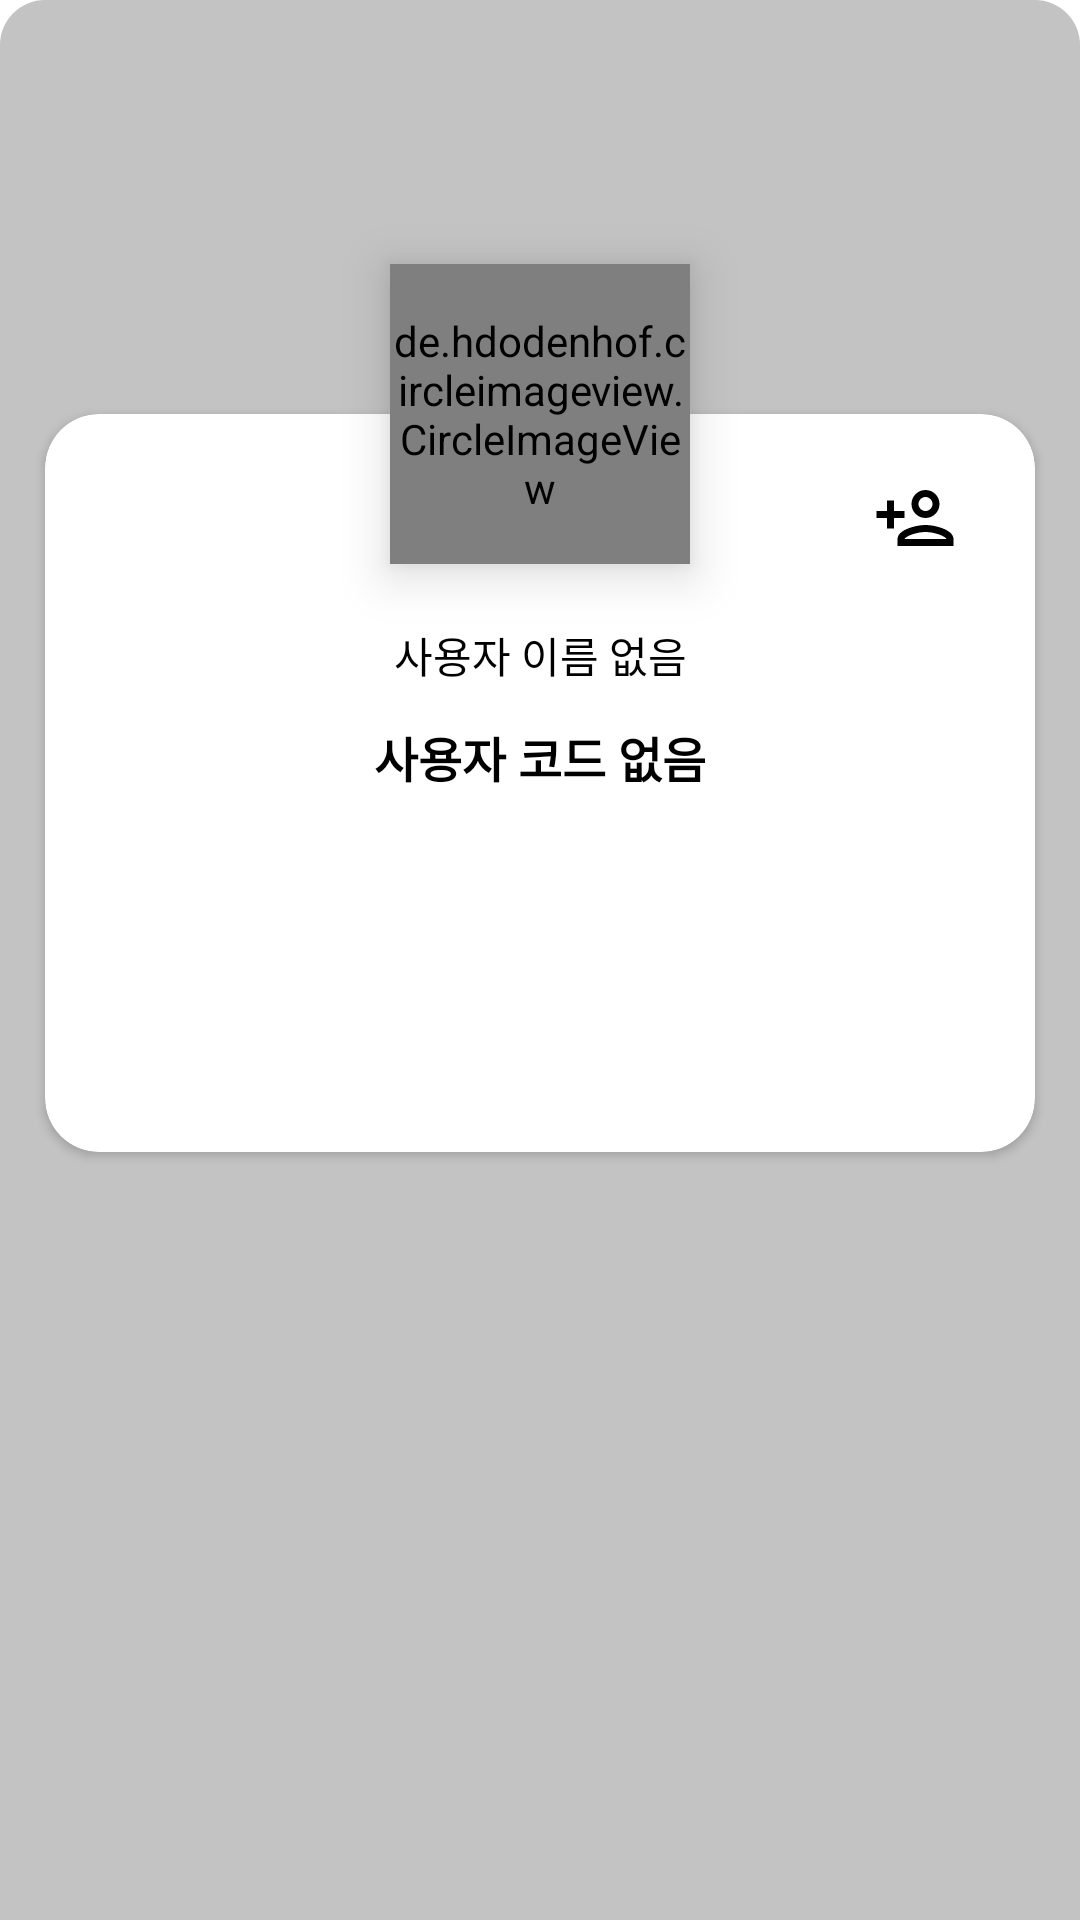

Screen size 1080 × 1920. Icon name, then its box in pixels as box=[x1, y1, x2, y2]:
person add: box=[876, 490, 954, 546]
